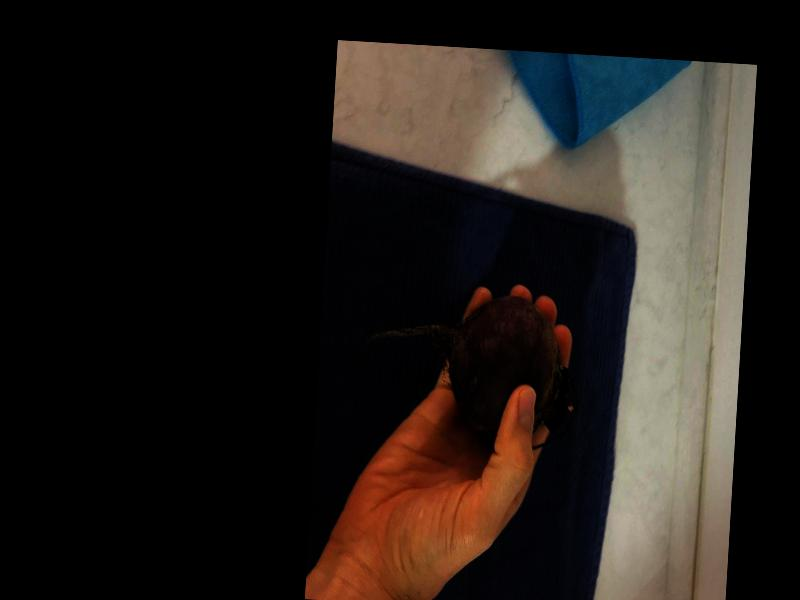Beet: (358, 288, 582, 453)
